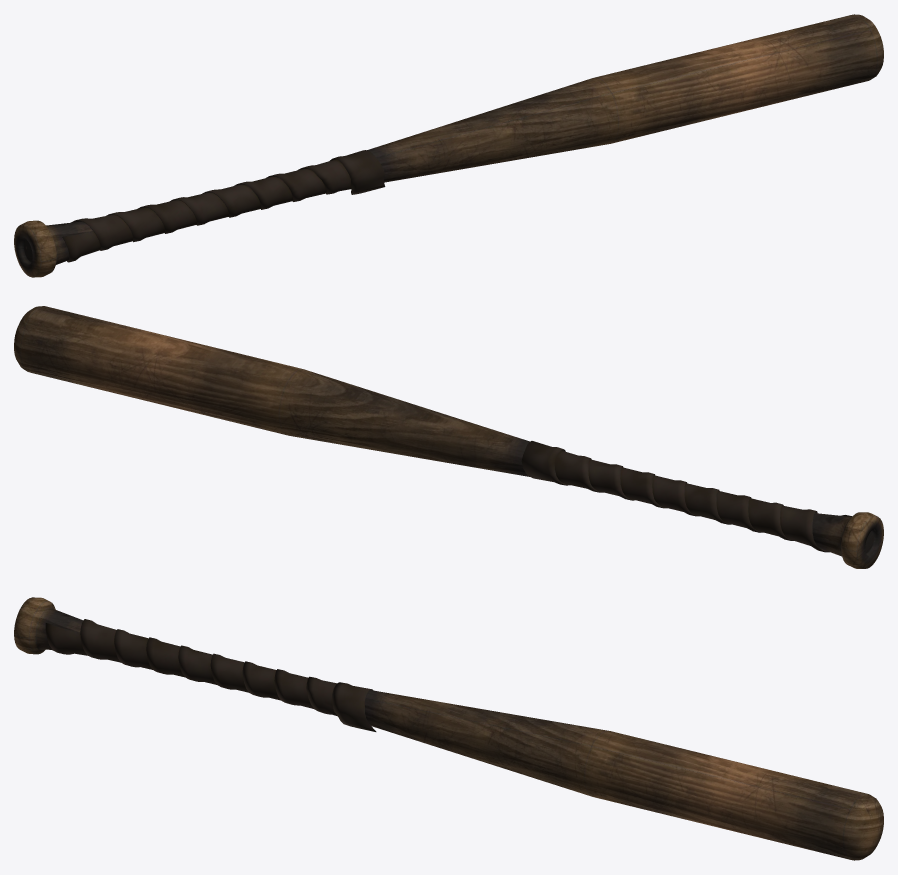
The model's file is bat.glb.
3 renders of one model, top to bottom at view 1: azimuth 30°, elevation 25°; view 2: azimuth 150°, elevation 25°; view 3: azimuth 330°, elevation 25°, orthographic.
Parts seen in each view (by area): view 1: baseball_bat; view 2: baseball_bat; view 3: baseball_bat.
Part boxes in pixels (x1=…): baseball_bat: x1=14, y1=14, x2=883, y2=277; baseball_bat: x1=14, y1=306, x2=883, y2=568; baseball_bat: x1=14, y1=597, x2=883, y2=860.
Bounding box in the file's own units: 0.9132 × 0.0635 × 0.0635.
1 material, 1 textured.
